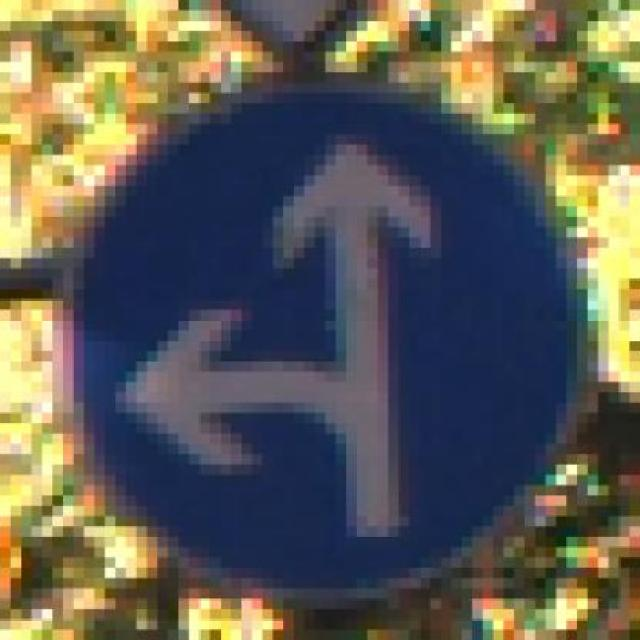Go straight or turn left: (42, 72, 609, 610)
